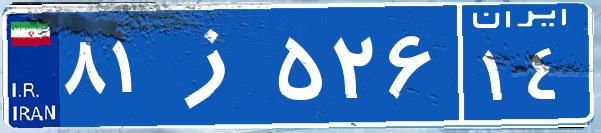1: (475, 38, 525, 113), (110, 28, 158, 105)
2: (330, 28, 385, 110)
4: (525, 38, 570, 115)
5: (273, 28, 330, 110)
6: (385, 28, 445, 110)
8: (57, 26, 110, 107)
ز: (158, 15, 273, 115)
